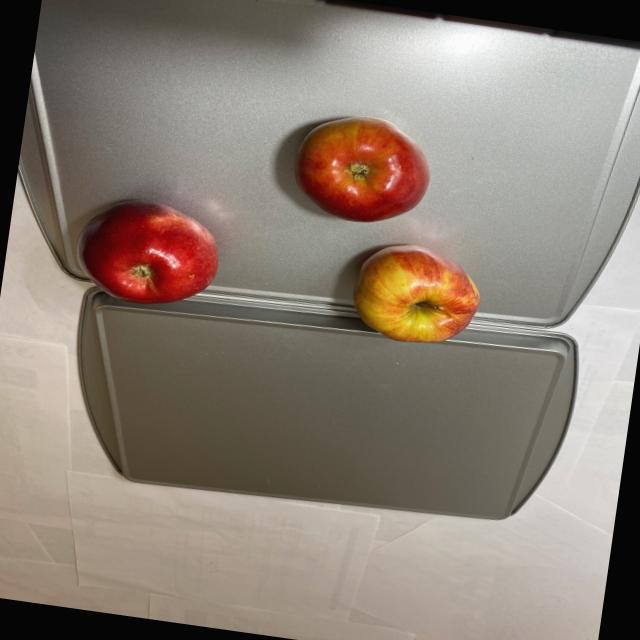apple: (268, 106, 506, 354), (68, 190, 232, 314)
